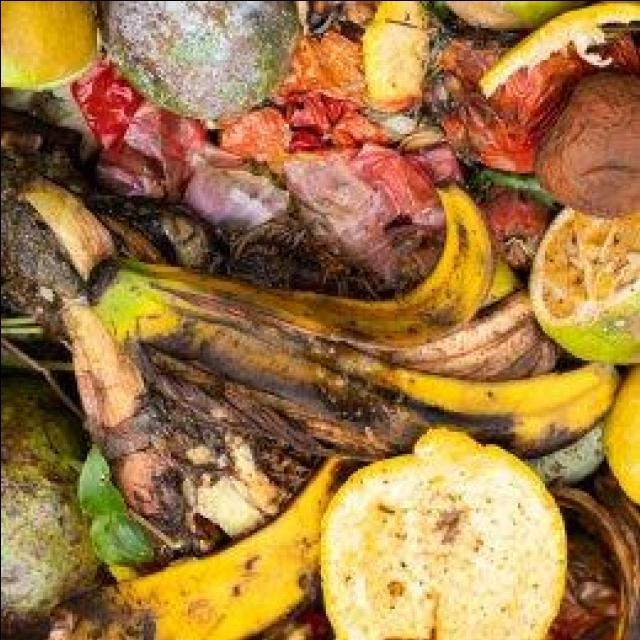Garbage: (2, 0, 640, 638)
